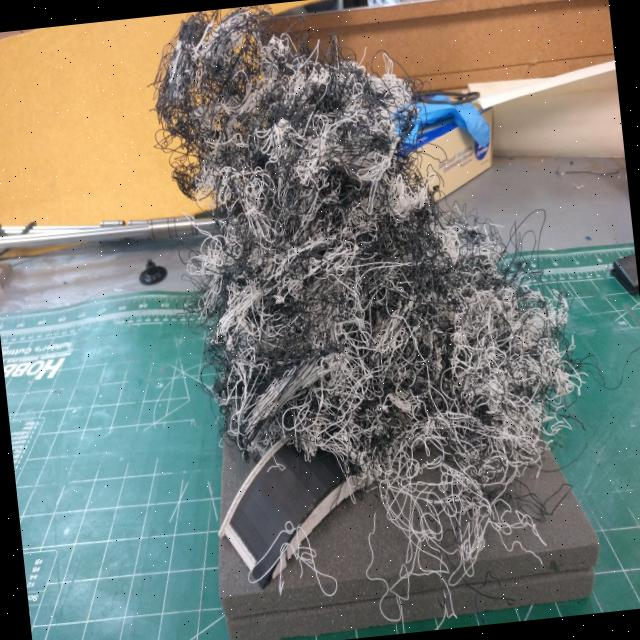spaghetti: (137, 0, 618, 621)
